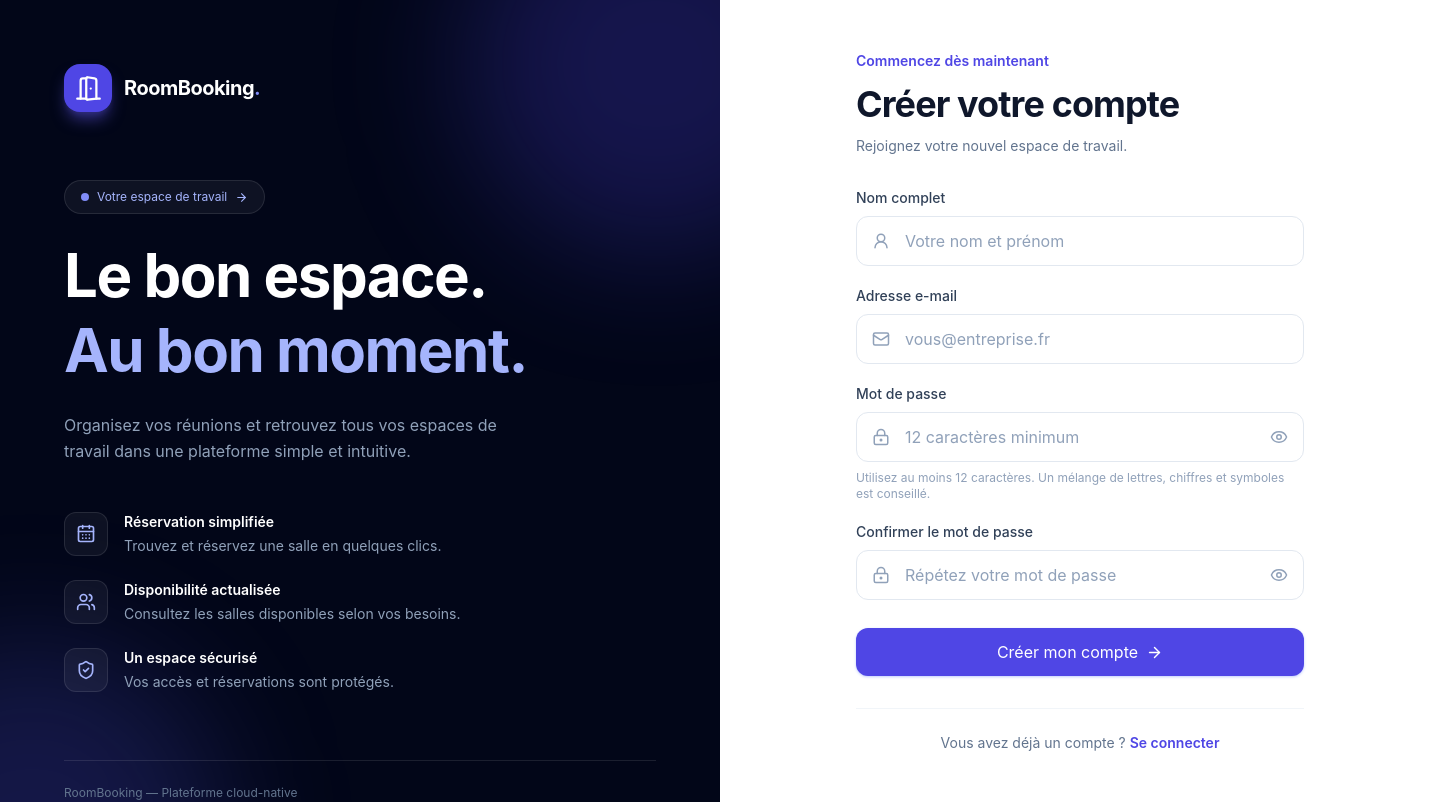
RegisterPage › displays the API error for a duplicate email
Type "RoomBooking Test User" into the field labelled "Nom complet".
click(1080, 241); type("RoomBooking Test User")  # box [856, 216, 1304, 266]
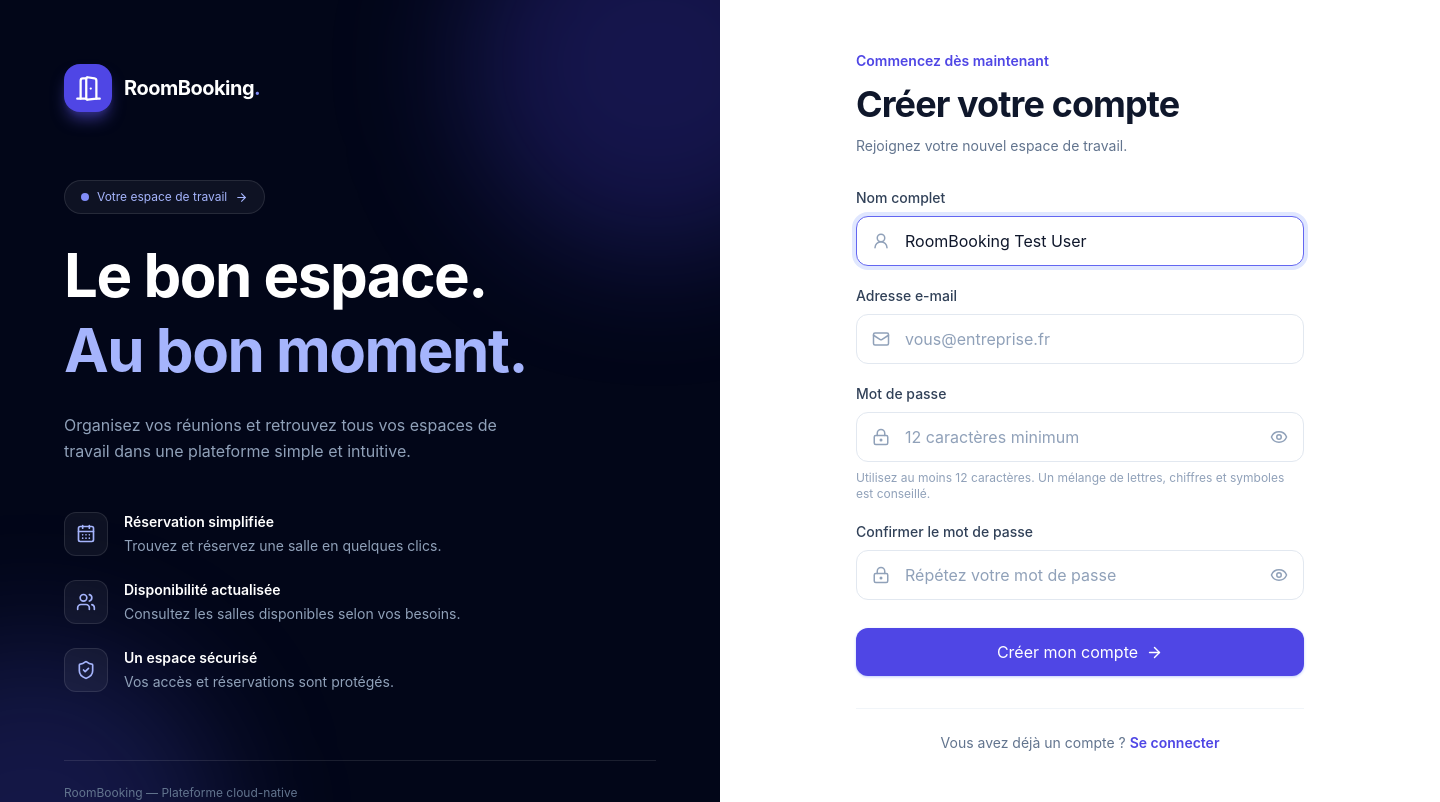
Type "user@example.com" into the field labelled "Adresse e-mail".
click(1080, 339); type("user@example.com")  # box [856, 314, 1304, 364]
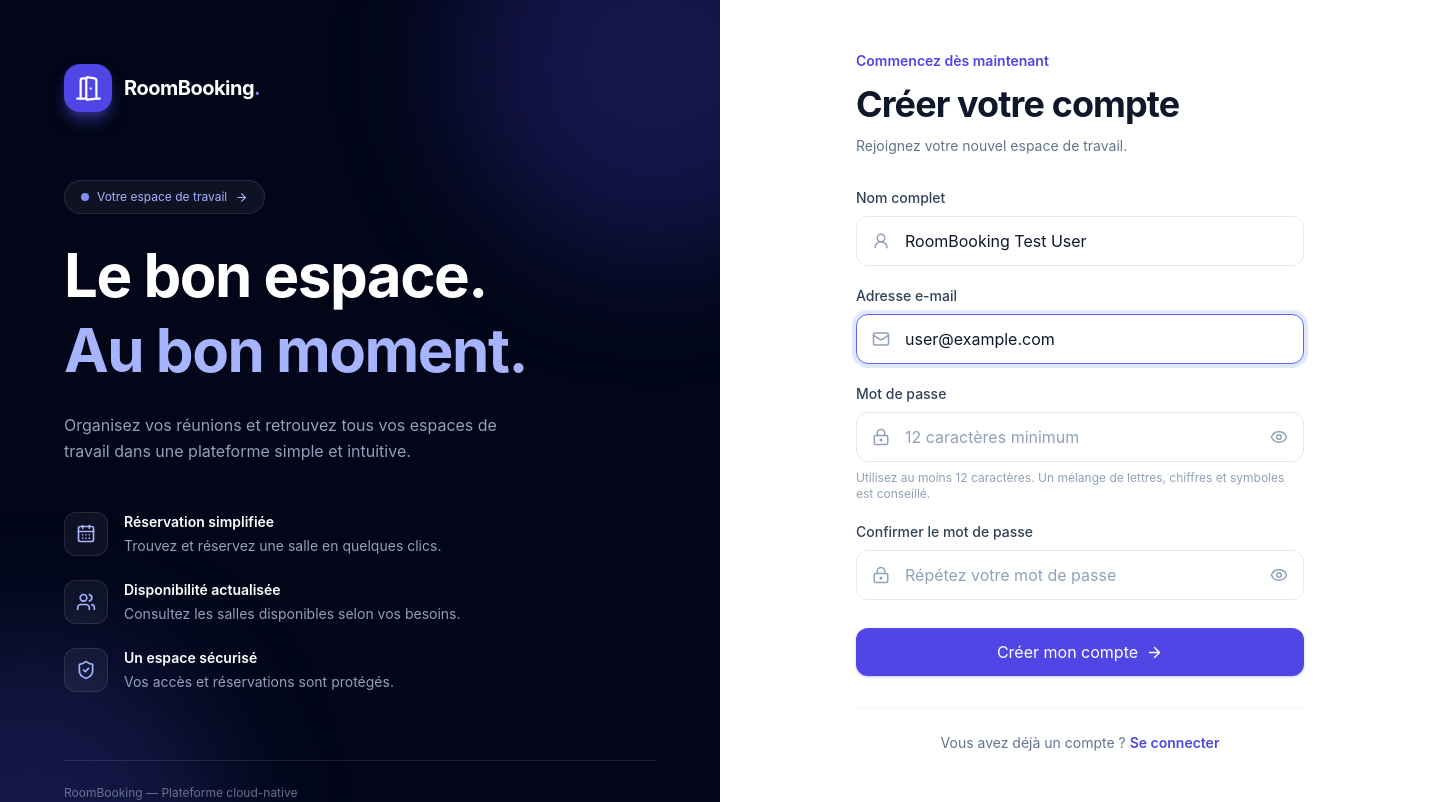
Type "TestPassword@2026!" into the password field labelled "Mot de passe".
click(1080, 437); type("TestPassword@2026!")  # box [856, 412, 1304, 462]
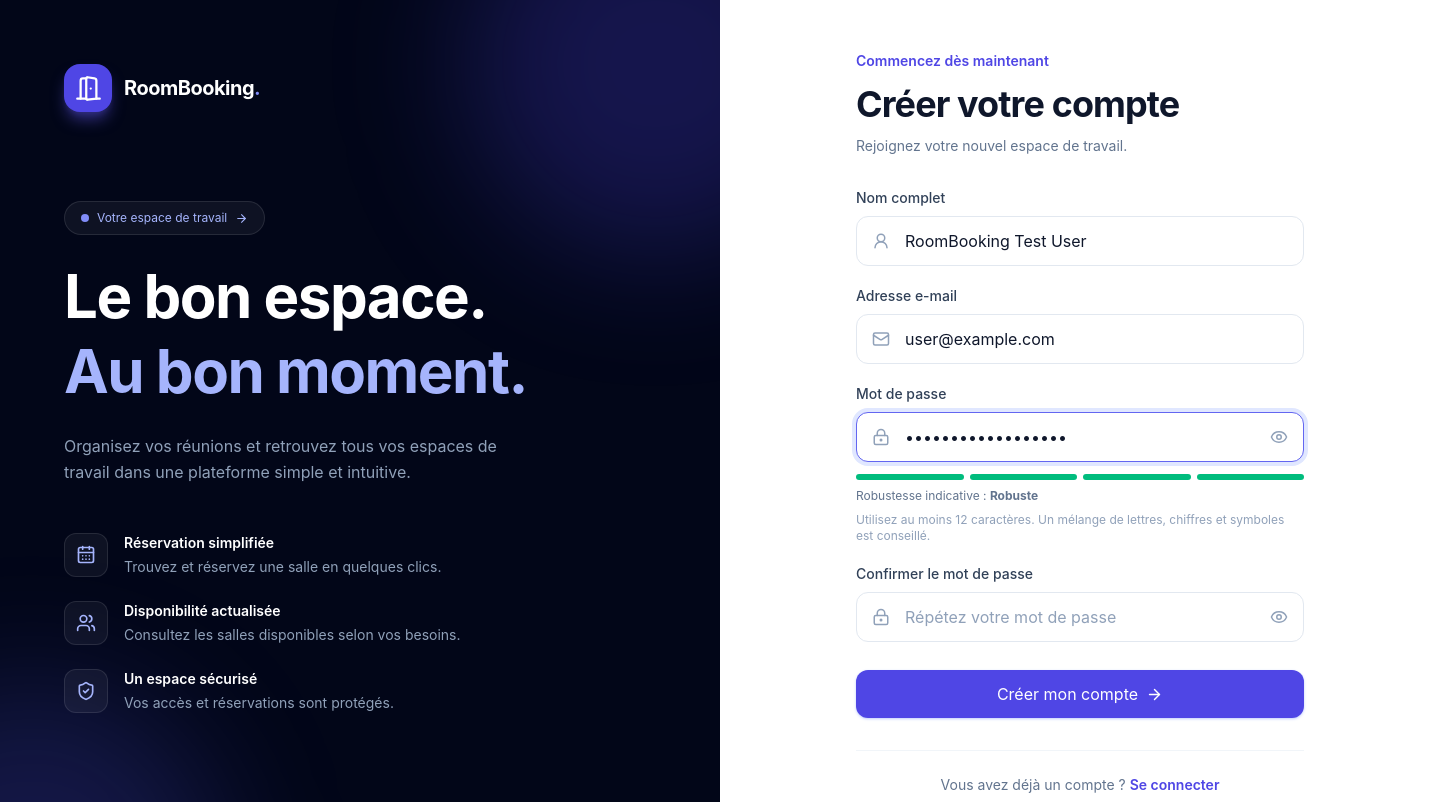
Type "TestPassword@2026!" into the password field labelled "Confirmer le mot de passe".
click(1080, 617); type("TestPassword@2026!")  # box [856, 592, 1304, 642]
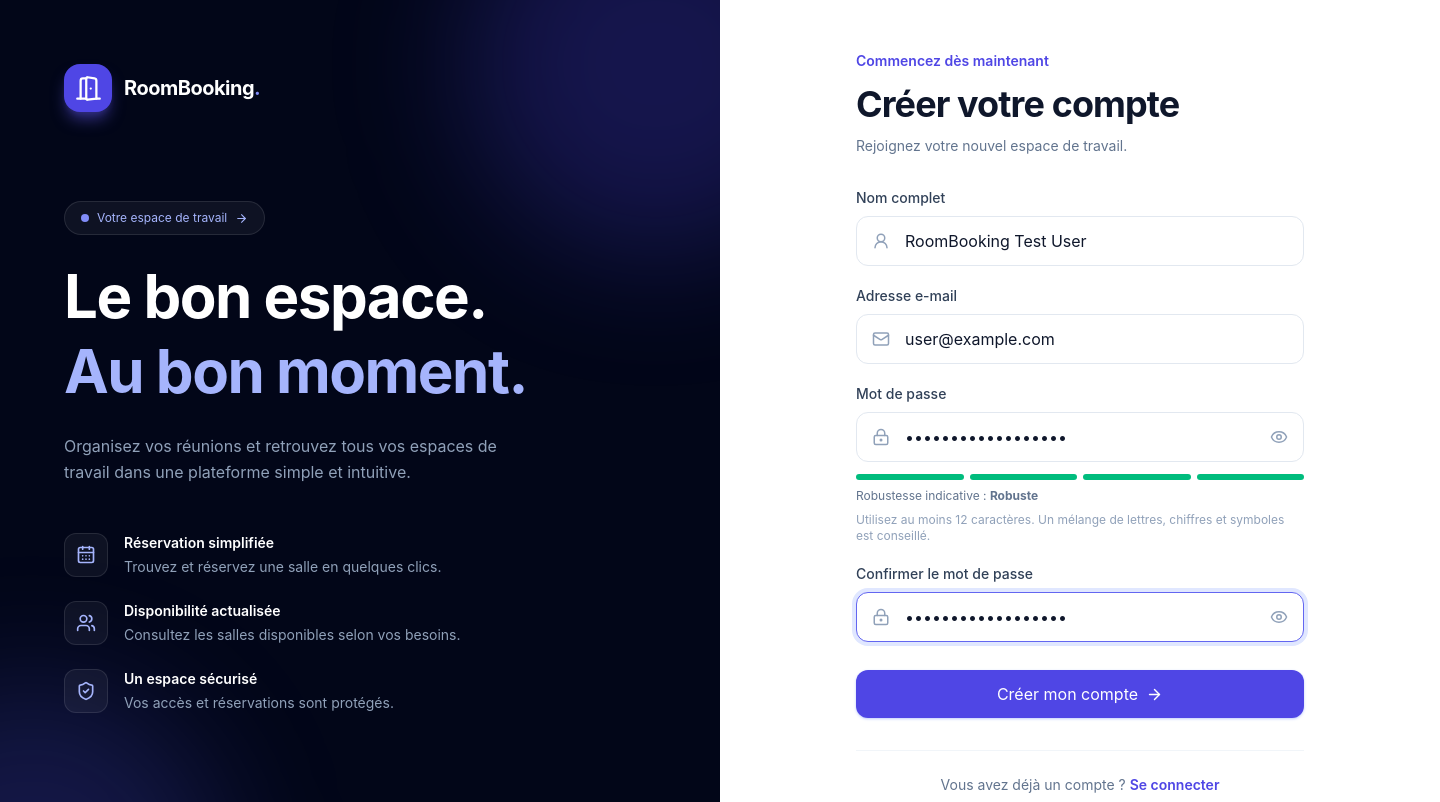
Click the button "Créer mon compte".
click(1080, 694)  # box [856, 670, 1304, 718]
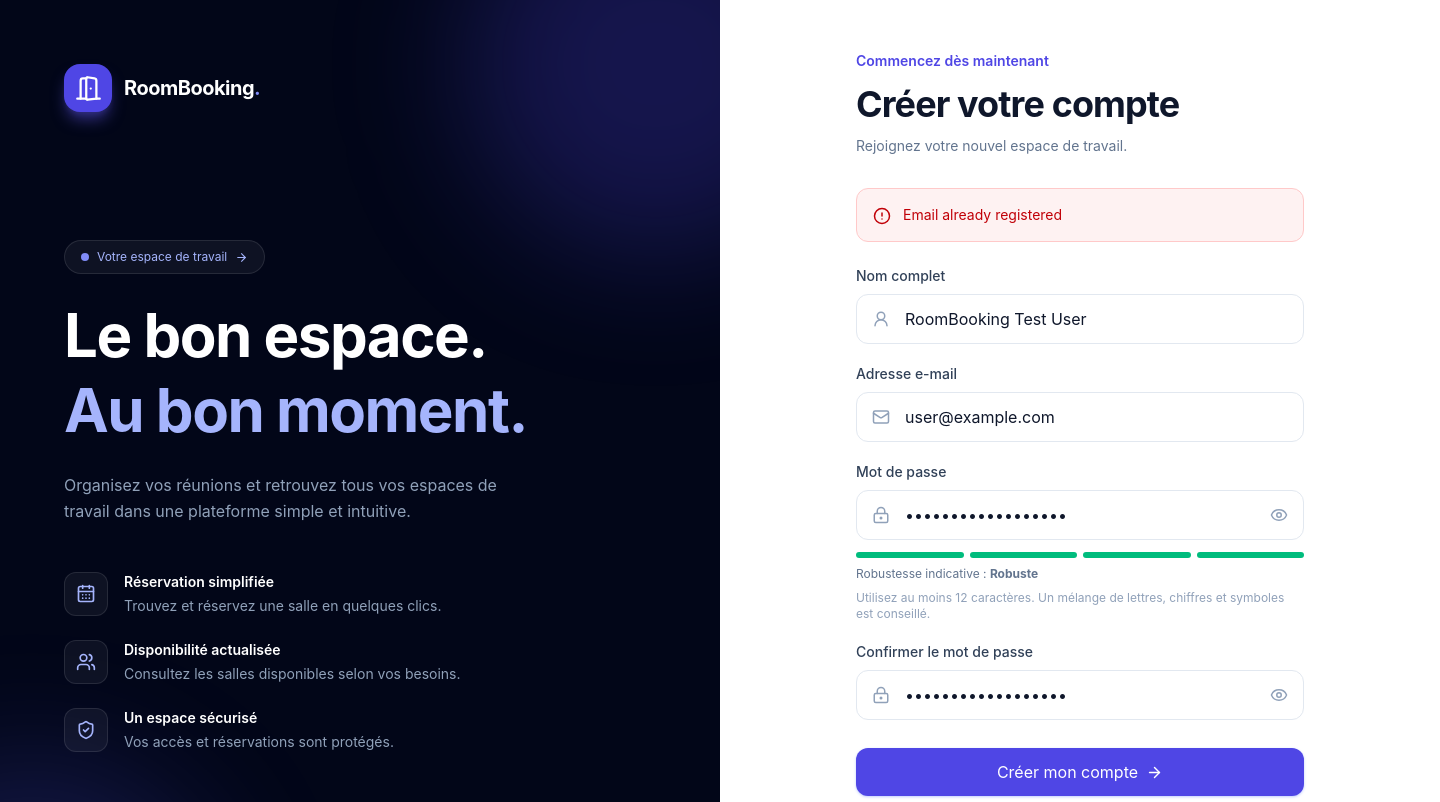
Expected: the message reads "Email already registered", [903, 206, 1062, 223]
